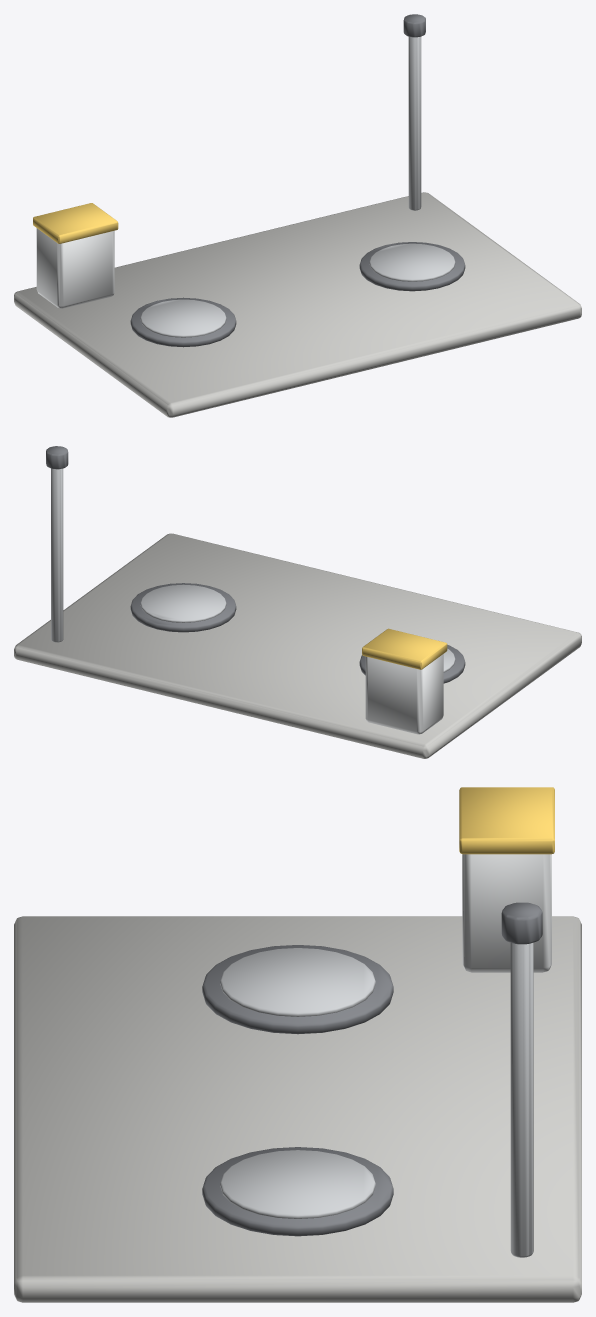
The model's file is underground_tank.glb.
3 renders of one model, top to bottom at view 1: azimuth 30°, elevation 25°; view 2: azimuth 150°, elevation 25°; view 3: azimuth 270°, elevation 25°, orthographic. The views are drawn at different scales.
Visible parts, largest first — view 1: Body; view 2: Body; view 3: Body.
Part boxes in pixels (x1,y1,x2,y2): Body: (14,14,581,417); Body: (14,446,581,758); Body: (14,787,581,1302).
Bounding box in the file's own units: 2.9 × 1.37 × 1.9.
